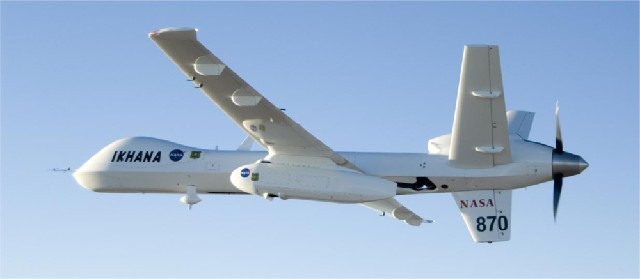maybay_khongnguoilai: (55, 27, 582, 241)
